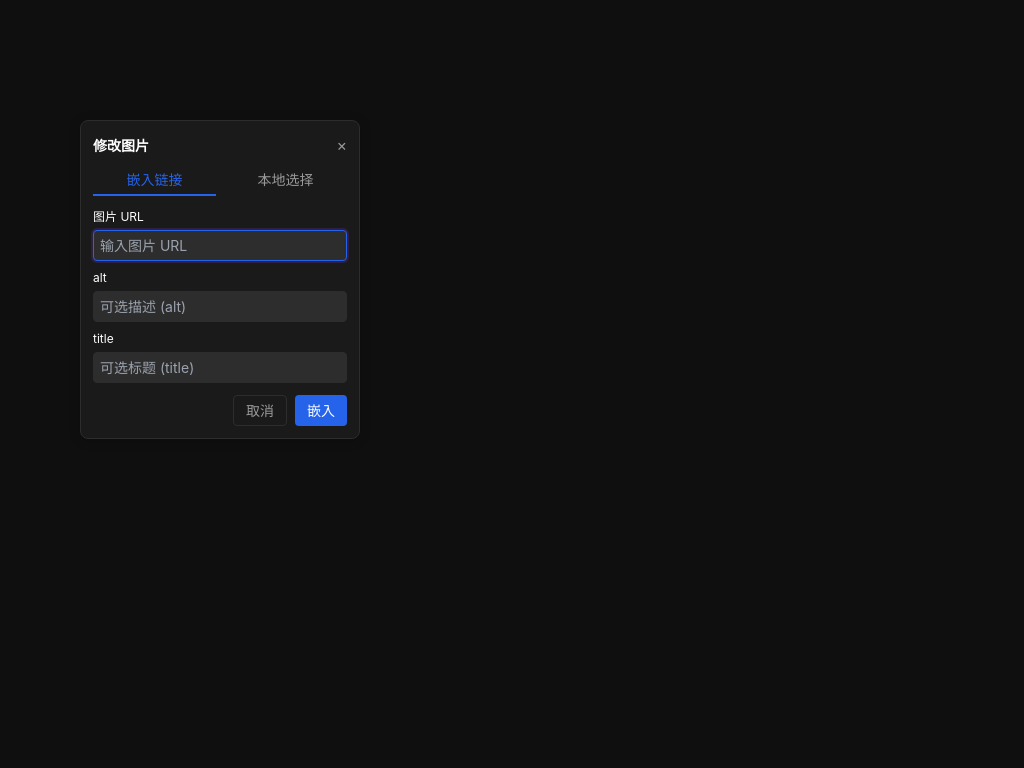
ImageEditTool — 渲染与双 Tab 切换 › 点击「本地选择」→ 显示「选择图片」，src 输入隐藏；切回 link 恢复
Click the button "本地选择": (286, 180) left=224, top=165, right=347, bottom=196
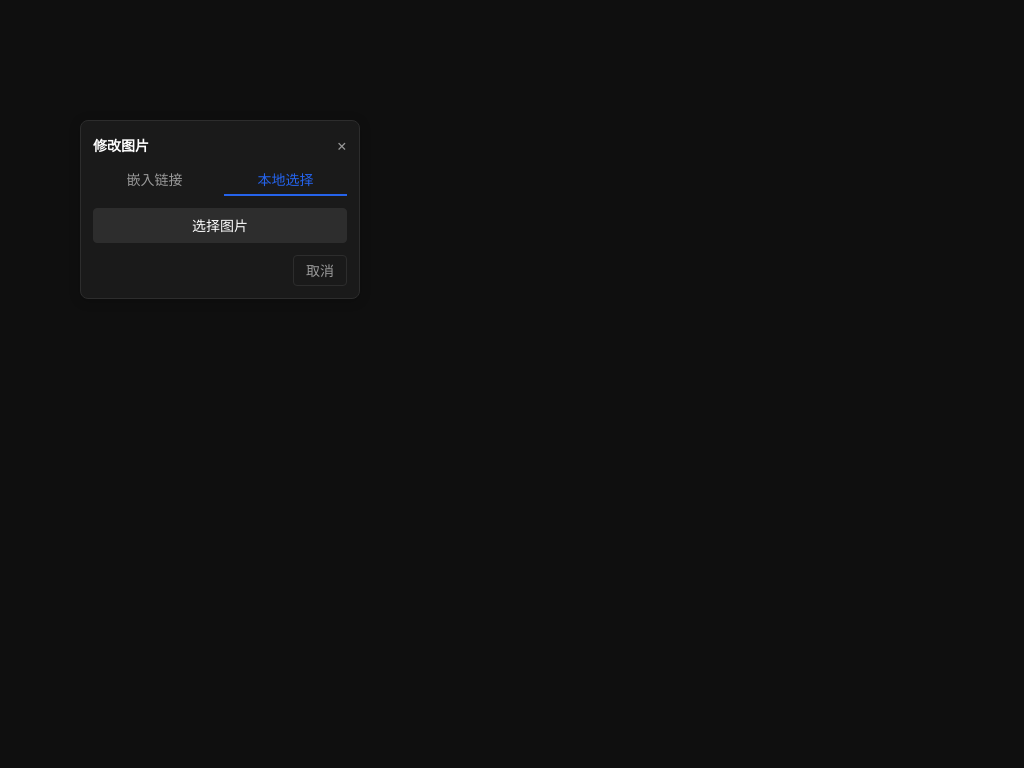
Expected: the field with placeholder "输入图片 URL" is not shown
Now the button "选择图片" is shown, box left=93, top=208, right=347, bottom=243
Click the button "嵌入链接": (154, 180) left=93, top=165, right=216, bottom=196
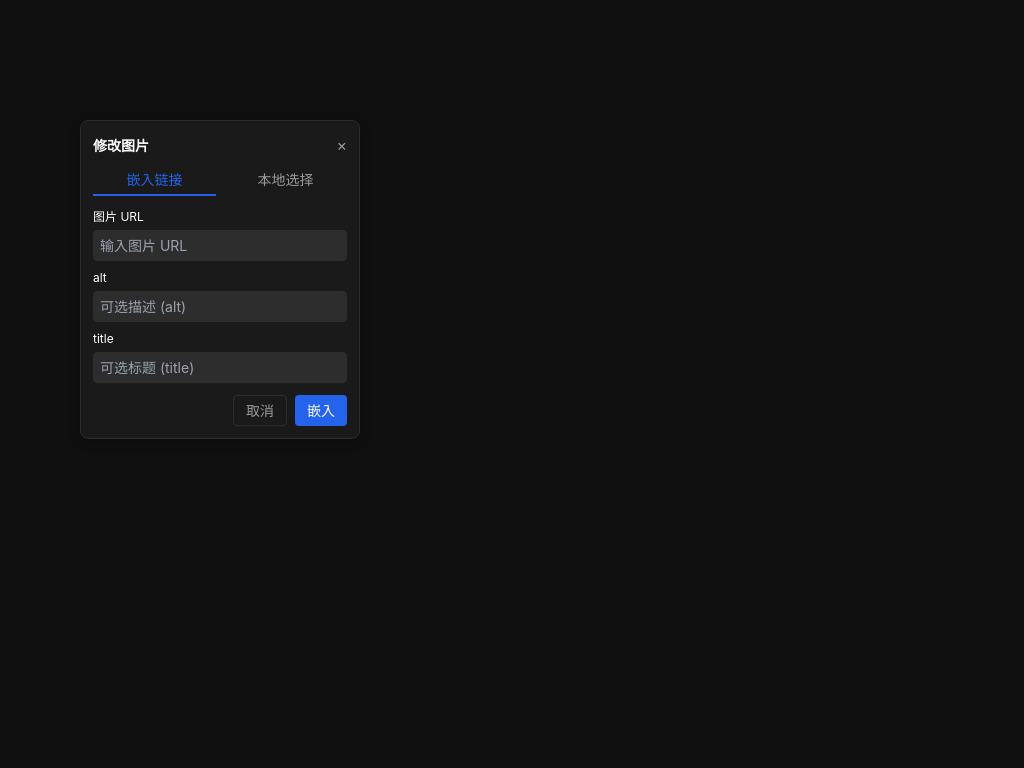
Now the field with placeholder "输入图片 URL" is shown, box left=93, top=230, right=347, bottom=261
